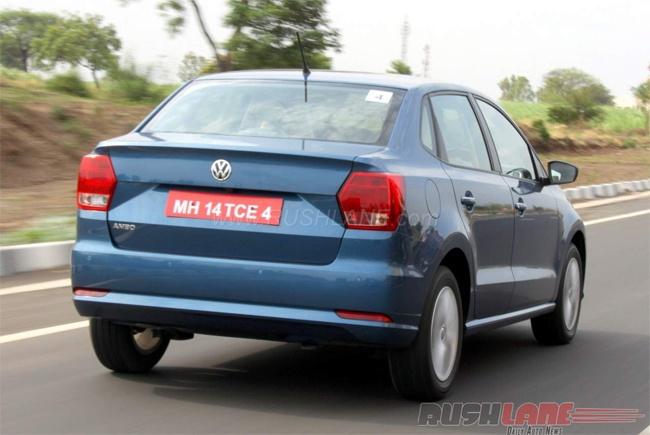number_plate: (167, 189, 277, 226)
